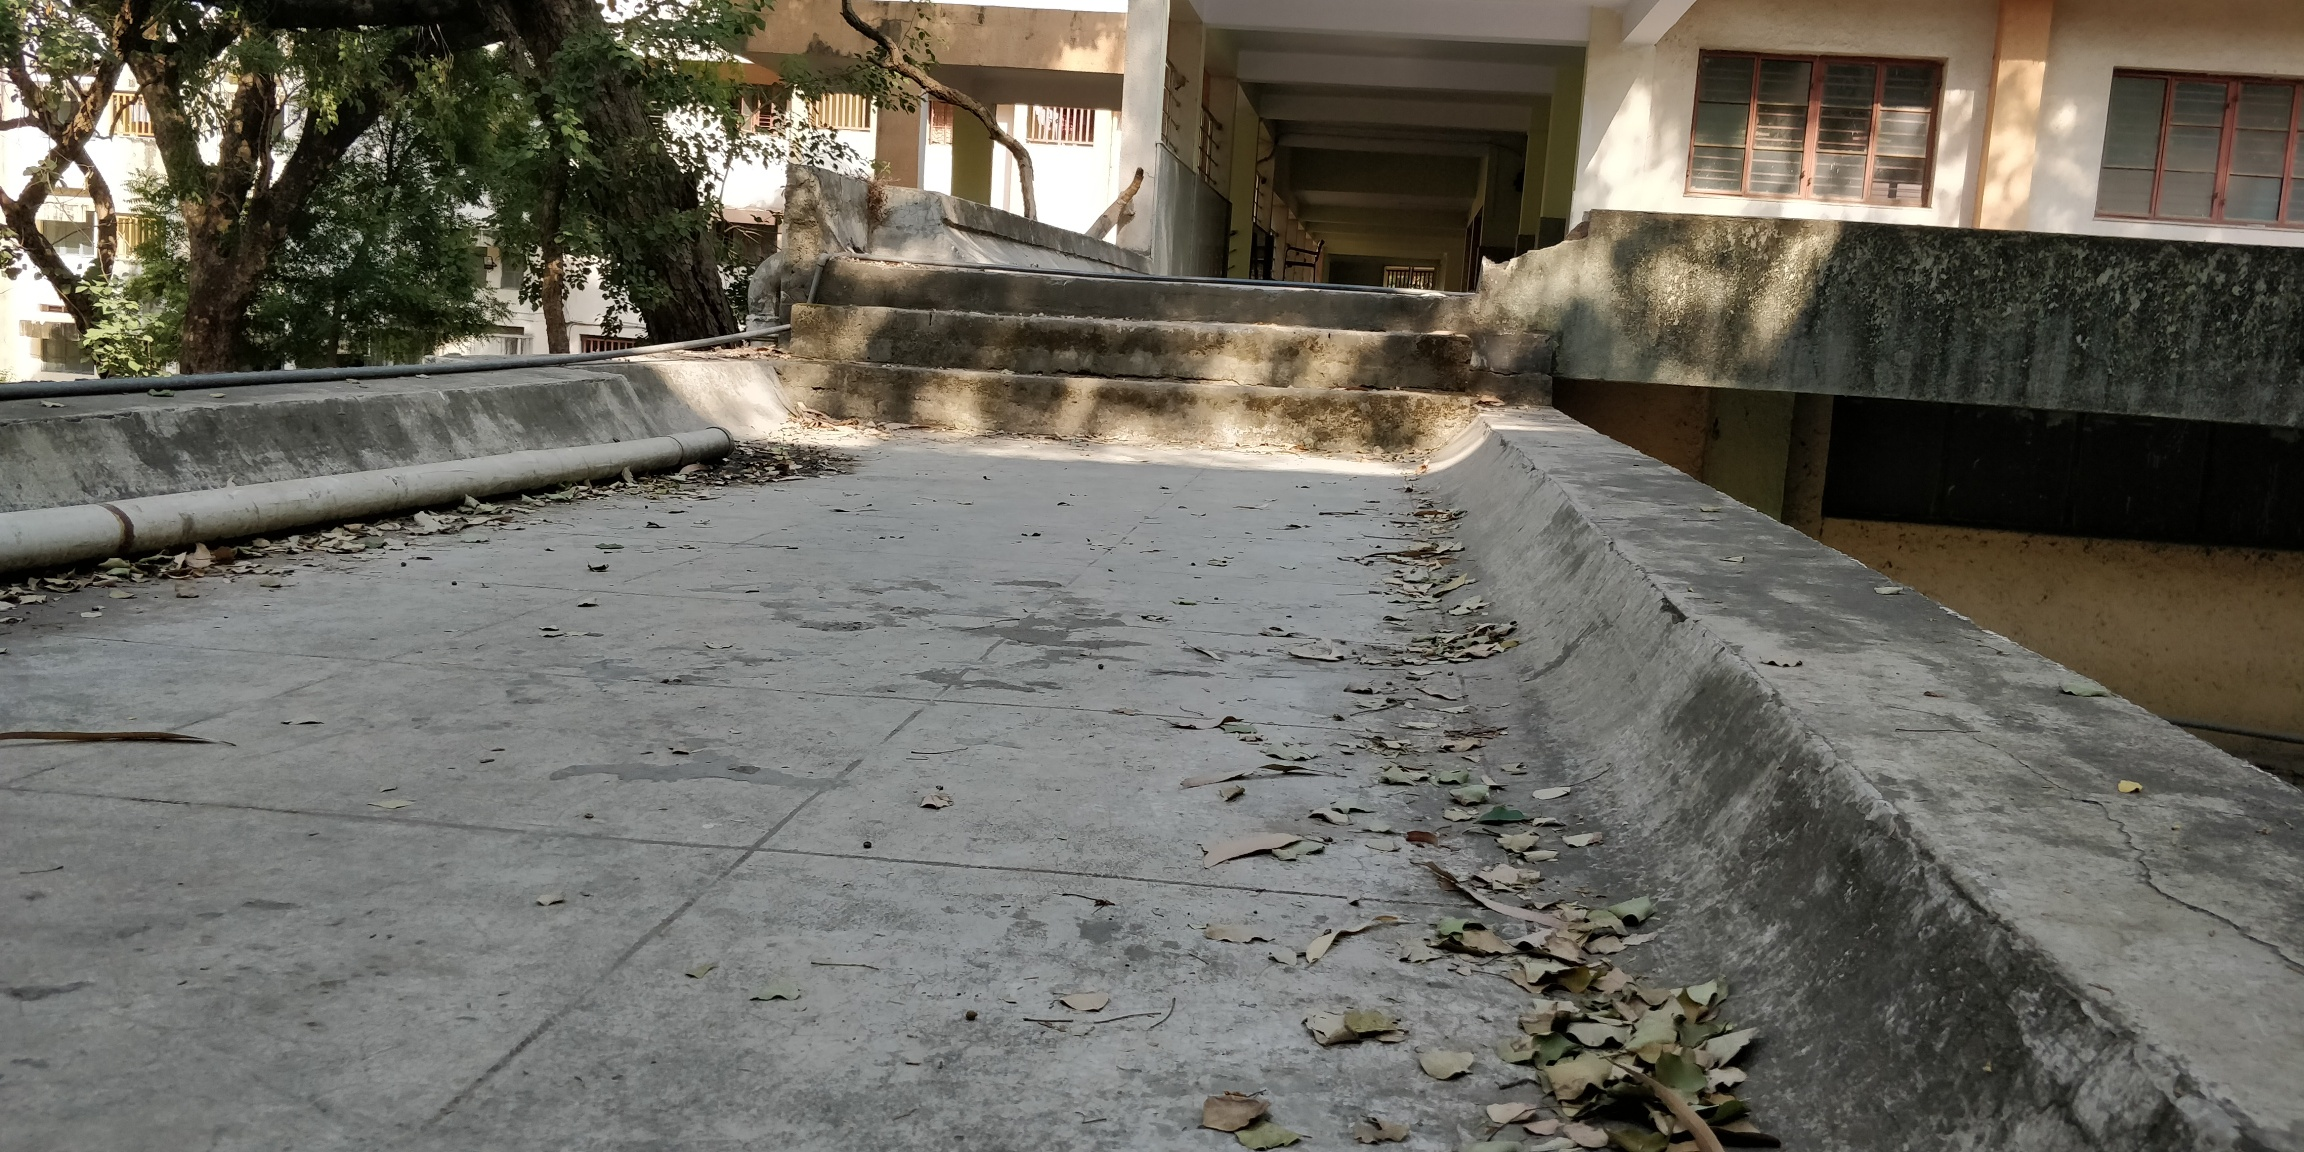stairs_up: (779, 278, 1461, 453)
